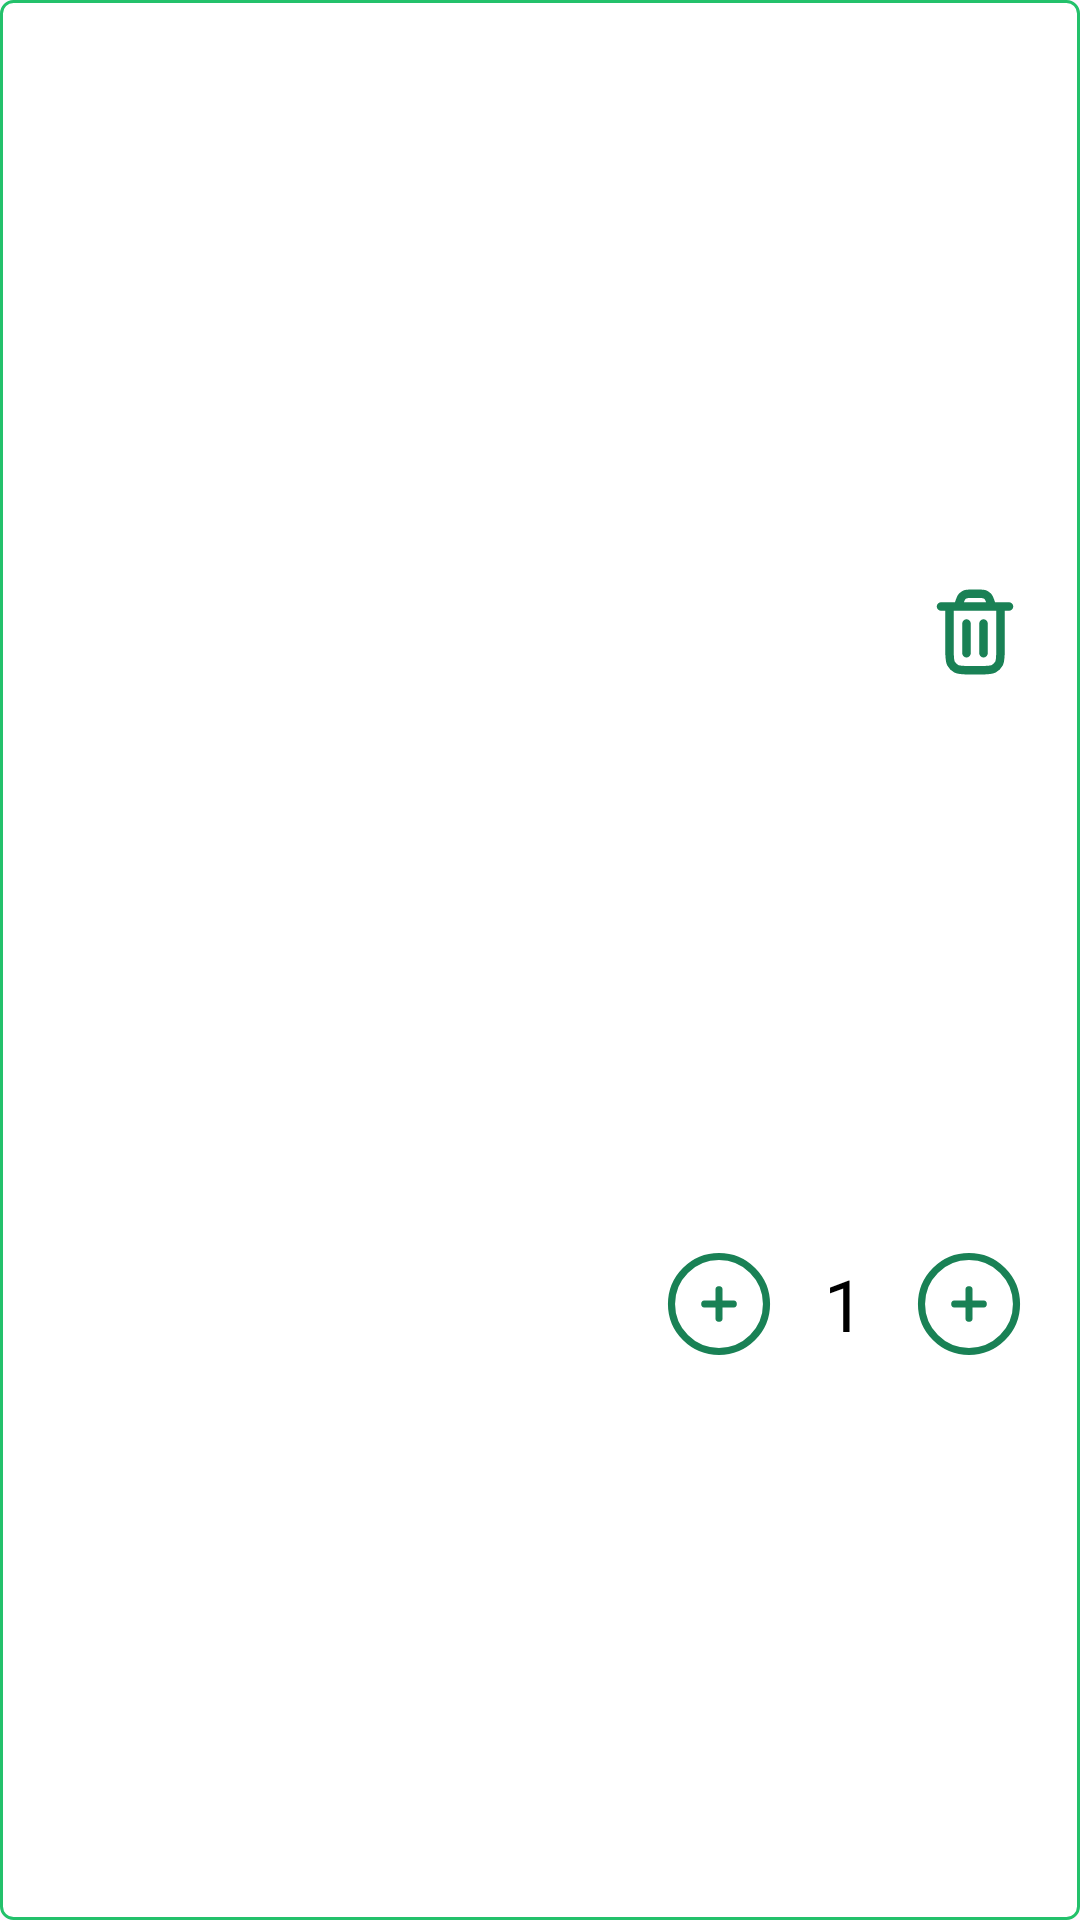

Where icons sit on this 1080 × 1920 app screen, as {"x1": x1, "y1": y1, "x2": x2, "y2": y2}:
Add Quantity: {"x1": 668, "y1": 1253, "x2": 770, "y2": 1355}, {"x1": 918, "y1": 1253, "x2": 1020, "y2": 1355}
Remove from Cart: {"x1": 936, "y1": 589, "x2": 1014, "y2": 675}
